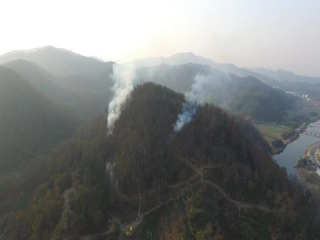smoke: (172, 66, 225, 137), (105, 58, 143, 134)
